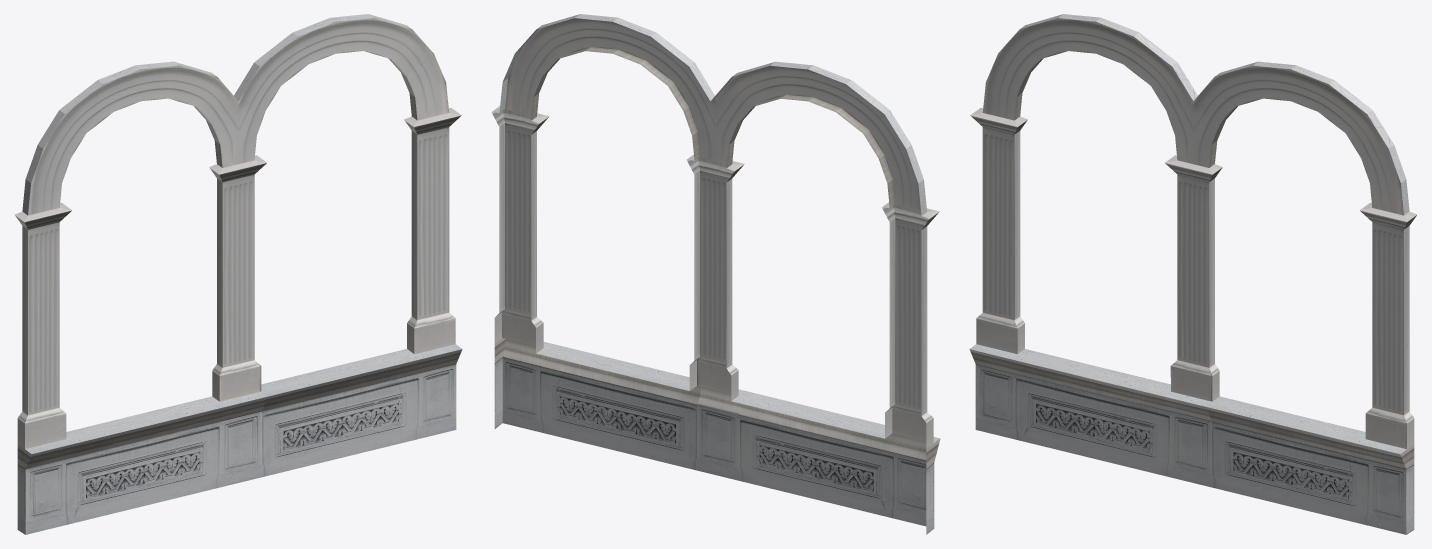
Rendered from WindowframeRounded2A.fbx.
3 renders of one model, left to right at view 1: azimuth 30°, elevation 25°; view 2: azimuth 150°, elevation 25°; view 3: azimuth 330°, elevation 25°, orthographic.
Visible parts, largest first — view 1: WindowframeRounded2A; view 2: WindowframeRounded2A; view 3: WindowframeRounded2A.
Part boxes in pixels (x1,y1,x2,y2): WindowframeRounded2A: (14, 14, 462, 534); WindowframeRounded2A: (491, 14, 940, 534); WindowframeRounded2A: (969, 14, 1417, 534).
Size of the model in its own units: 376 by 358 by 21.1.
